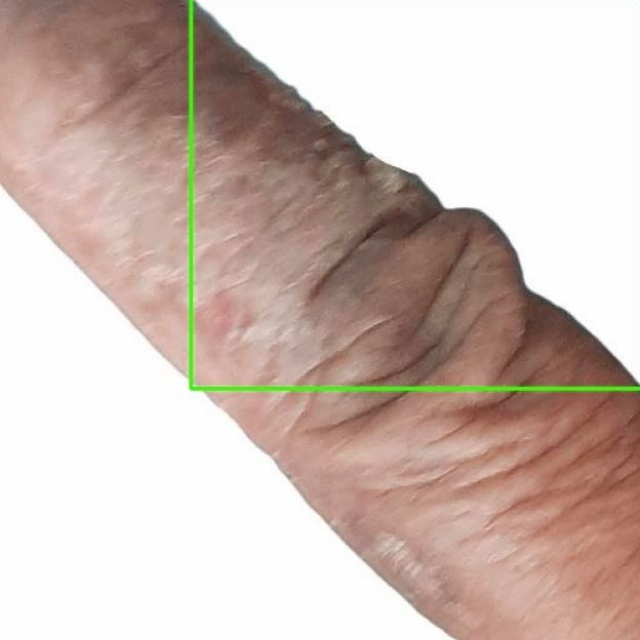Eczema: (190, 0, 639, 388)
